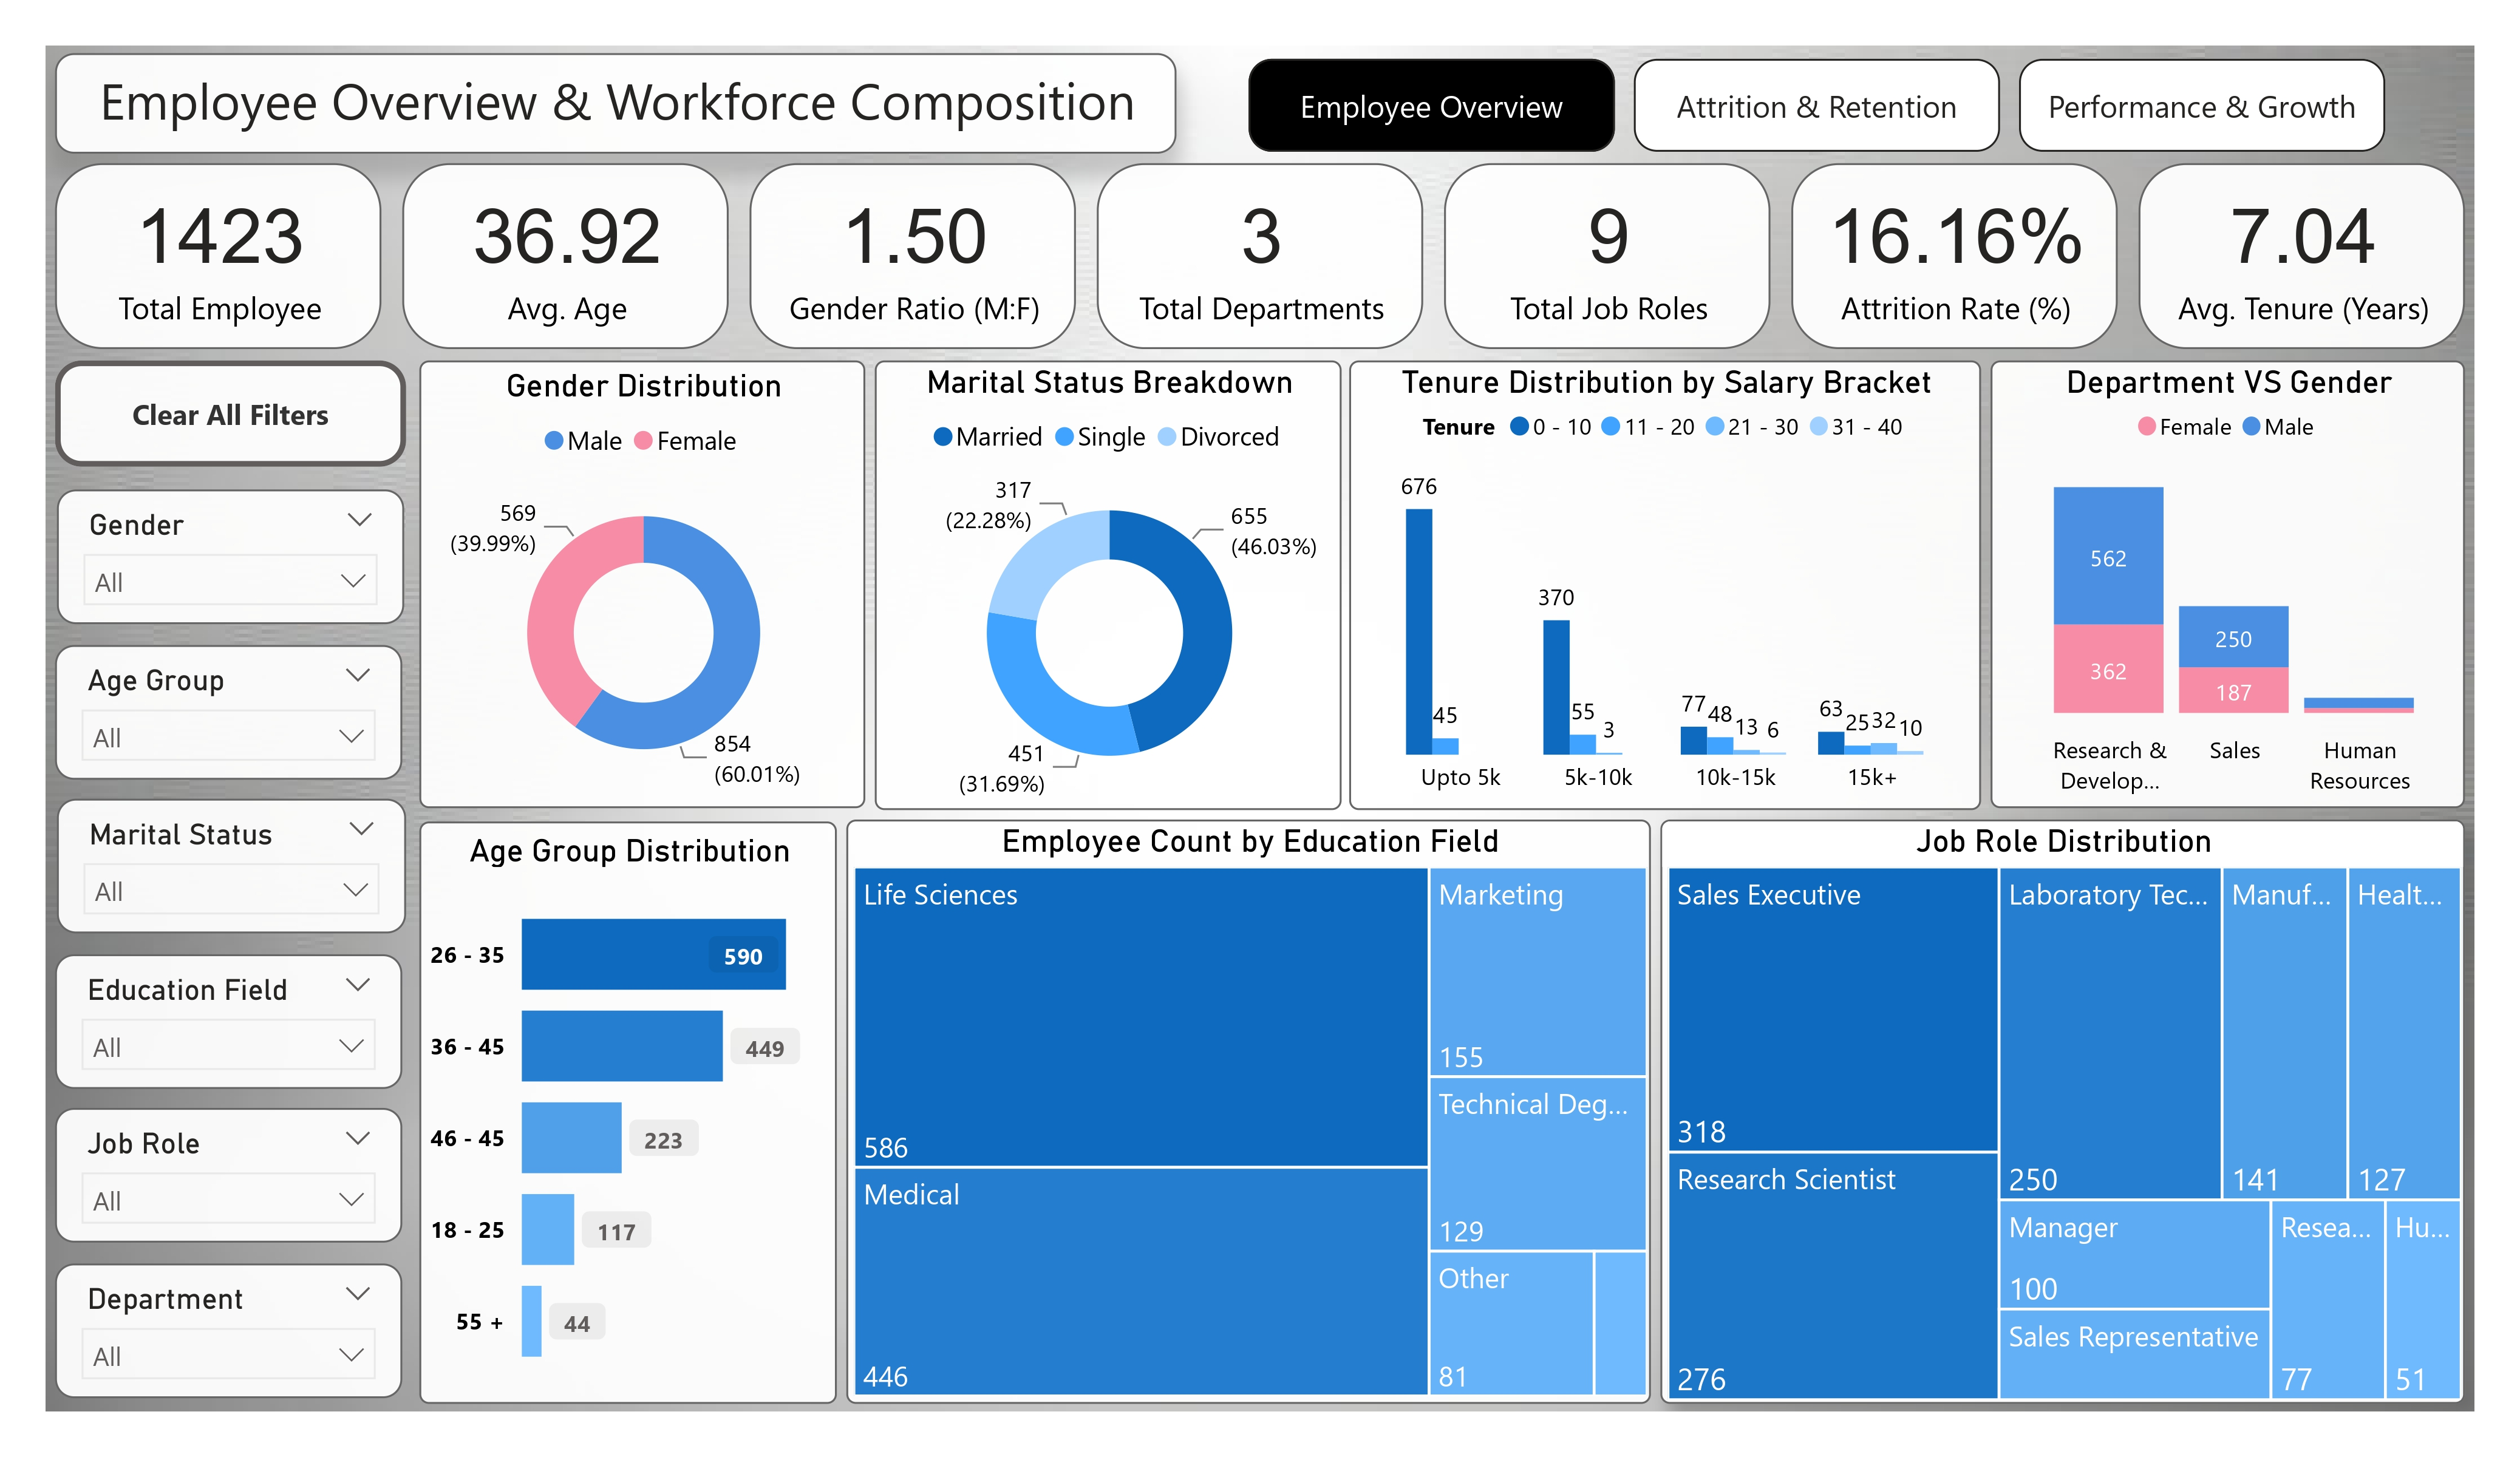

The page's visual inventory and layout, read from the dashboard file:
{"tool":"powerbi","page":{"name":"Employee Overview","canvas":[1280,720],"ordinal":0},"visuals":[{"type":"textbox","box":[4.8,4,591,53.1],"z":0},{"type":"card","fields":{"Values":["_Measure.Total Employee"]},"box":[4.8,62.4,172.1,97.7],"z":1000,"group":"g1"},{"type":"donutChart","title":"Gender Distribution","fields":{"Category":["HR_Analytics-processed.Gender"],"Y":["CountNonNull(HR_Analytics-processed.EmpID)"]},"box":[196.6,166.4,235,236],"z":1000},{"type":"donutChart","title":"Marital Status Breakdown","fields":{"Category":["HR_Analytics-processed.MaritalStatus"],"Y":["CountNonNull(HR_Analytics-processed.EmpID)"]},"box":[436.6,166.4,246,236.4],"z":2000},{"type":"columnChart","title":"Department VS Gender","fields":{"Category":["HR_Analytics-processed.Department"],"Y":["CountNonNull(HR_Analytics-processed.EmpID)"],"Series":["HR_Analytics-processed.Gender"]},"box":[1025.1,166.4,249.6,236],"z":3000},{"type":"treemap","title":"Job Role Distribution","fields":{"Group":["HR_Analytics-processed.JobRole","HR_Analytics-processed.JobLevel"],"Values":["CountNonNull(HR_Analytics-processed.EmpID)"]},"box":[851,408,424,307.5],"z":4000},{"type":"clusteredBarChart","title":"Age Group Distribution","fields":{"Category":["HR_Analytics-processed.Age Bins"],"Y":["CountNonNull(HR_Analytics-processed.EmpID)"]},"box":[197,408.8,220,307.5],"z":5000},{"type":"clusteredColumnChart","title":"Tenure Distribution by Salary Bracket","fields":{"Category":["HR_Analytics-processed.SalarySlab"],"Series":["HR_Analytics-processed.YearsAtCompany (groups)"],"Y":["CountNonNull(HR_Analytics-processed.EmpID)"]},"box":[687.4,166.4,332.9,236.4],"z":6000},{"type":"treemap","title":"Employee Count by Education Field","fields":{"Group":["HR_Analytics-processed.EducationField","HR_Analytics-processed.Education"],"Values":["CountNonNull(HR_Analytics-processed.EmpID)"]},"box":[422.1,408,424,307.5],"z":7000},{"type":"actionButton","box":[5,166.4,184.5,55.5],"z":8000},{"type":"slicer","fields":{"Values":["HR_Analytics-processed.Gender"]},"box":[5.8,233.8,183.3,71.2],"z":8000,"group":"g2"},{"type":"group","id":"g1","title":"Group 1","box":[4.8,62.4,1270,97.7],"z":9000},{"type":"group","id":"g2","title":"Group 2","box":[4.8,233.8,184.5,478.8],"z":10000},{"type":"pageNavigator","box":[634.4,7,600.6,49.4],"z":11000},{"type":"slicer","fields":{"Values":["HR_Analytics-processed.Age Group"]},"box":[4.8,315.3,183.3,71.2],"z":11000,"group":"g2"},{"type":"slicer","fields":{"Values":["HR_Analytics-processed.MaritalStatus"]},"box":[6,396.9,183.3,71.2],"z":12000,"group":"g2"},{"type":"slicer","fields":{"Values":["HR_Analytics-processed.EducationField"]},"box":[4.8,478.4,183.3,71.2],"z":13000,"group":"g2"},{"type":"slicer","fields":{"Values":["HR_Analytics-processed.JobRole"]},"box":[4.8,559.9,183.3,71.2],"z":14000,"group":"g2"},{"type":"card","fields":{"Values":["_Measure.Avg. Age"]},"box":[187.7,62.4,172.2,97.7],"z":15000,"group":"g1"},{"type":"slicer","fields":{"Values":["HR_Analytics-processed.Department"]},"box":[5,641.4,183.3,71],"z":15000,"group":"g2"},{"type":"card","fields":{"Values":["_Measure.Gender Ratio"]},"box":[370.7,62.4,172.2,97.7],"z":16000,"group":"g1"},{"type":"card","fields":{"Values":["_Measure.Total Departments"]},"box":[553.7,62.4,172.2,97.7],"z":17000,"group":"g1"},{"type":"card","fields":{"Values":["_Measure.Total Job Roles"]},"box":[736.7,62.4,172.2,97.7],"z":18000,"group":"g1"},{"type":"card","fields":{"Values":["_Measure.Attrition Rate (%)"]},"box":[919.6,62.4,172.2,97.7],"z":19000,"group":"g1"},{"type":"card","fields":{"Values":["_Measure.Avg. Tenure (Years)"]},"box":[1102.6,62.4,172.2,97.7],"z":20000,"group":"g1"}]}

Visuals, with their boxes on the page's 1280x720 design canvas (x1, y1, x2, y2). These are canvas units, not pixel positions in the 2520x1457 screenshot, which may show the page scaled, cropped or inside an application window:
textbox: select_region(5, 4, 596, 57)
card - _Measure.Total Employee: select_region(5, 62, 177, 160)
"Gender Distribution" donutChart: select_region(197, 166, 432, 402)
"Marital Status Breakdown" donutChart: select_region(437, 166, 683, 403)
"Department VS Gender" columnChart: select_region(1025, 166, 1275, 402)
"Job Role Distribution" treemap: select_region(851, 408, 1275, 716)
"Age Group Distribution" clusteredBarChart: select_region(197, 409, 417, 716)
"Tenure Distribution by Salary Bracket" clusteredColumnChart: select_region(687, 166, 1020, 403)
"Employee Count by Education Field" treemap: select_region(422, 408, 846, 716)
actionButton: select_region(5, 166, 190, 222)
slicer - HR_Analytics-processed.Gender: select_region(6, 234, 189, 305)
"Group 1" group: select_region(5, 62, 1275, 160)
"Group 2" group: select_region(5, 234, 189, 713)
pageNavigator: select_region(634, 7, 1235, 56)
slicer - HR_Analytics-processed.Age Group: select_region(5, 315, 188, 386)
slicer - HR_Analytics-processed.MaritalStatus: select_region(6, 397, 189, 468)
slicer - HR_Analytics-processed.EducationField: select_region(5, 478, 188, 550)
slicer - HR_Analytics-processed.JobRole: select_region(5, 560, 188, 631)
card - _Measure.Avg. Age: select_region(188, 62, 360, 160)
slicer - HR_Analytics-processed.Department: select_region(5, 641, 188, 712)
card - _Measure.Gender Ratio: select_region(371, 62, 543, 160)
card - _Measure.Total Departments: select_region(554, 62, 726, 160)
card - _Measure.Total Job Roles: select_region(737, 62, 909, 160)
card - _Measure.Attrition Rate (%): select_region(920, 62, 1092, 160)
card - _Measure.Avg. Tenure (Years): select_region(1103, 62, 1275, 160)
